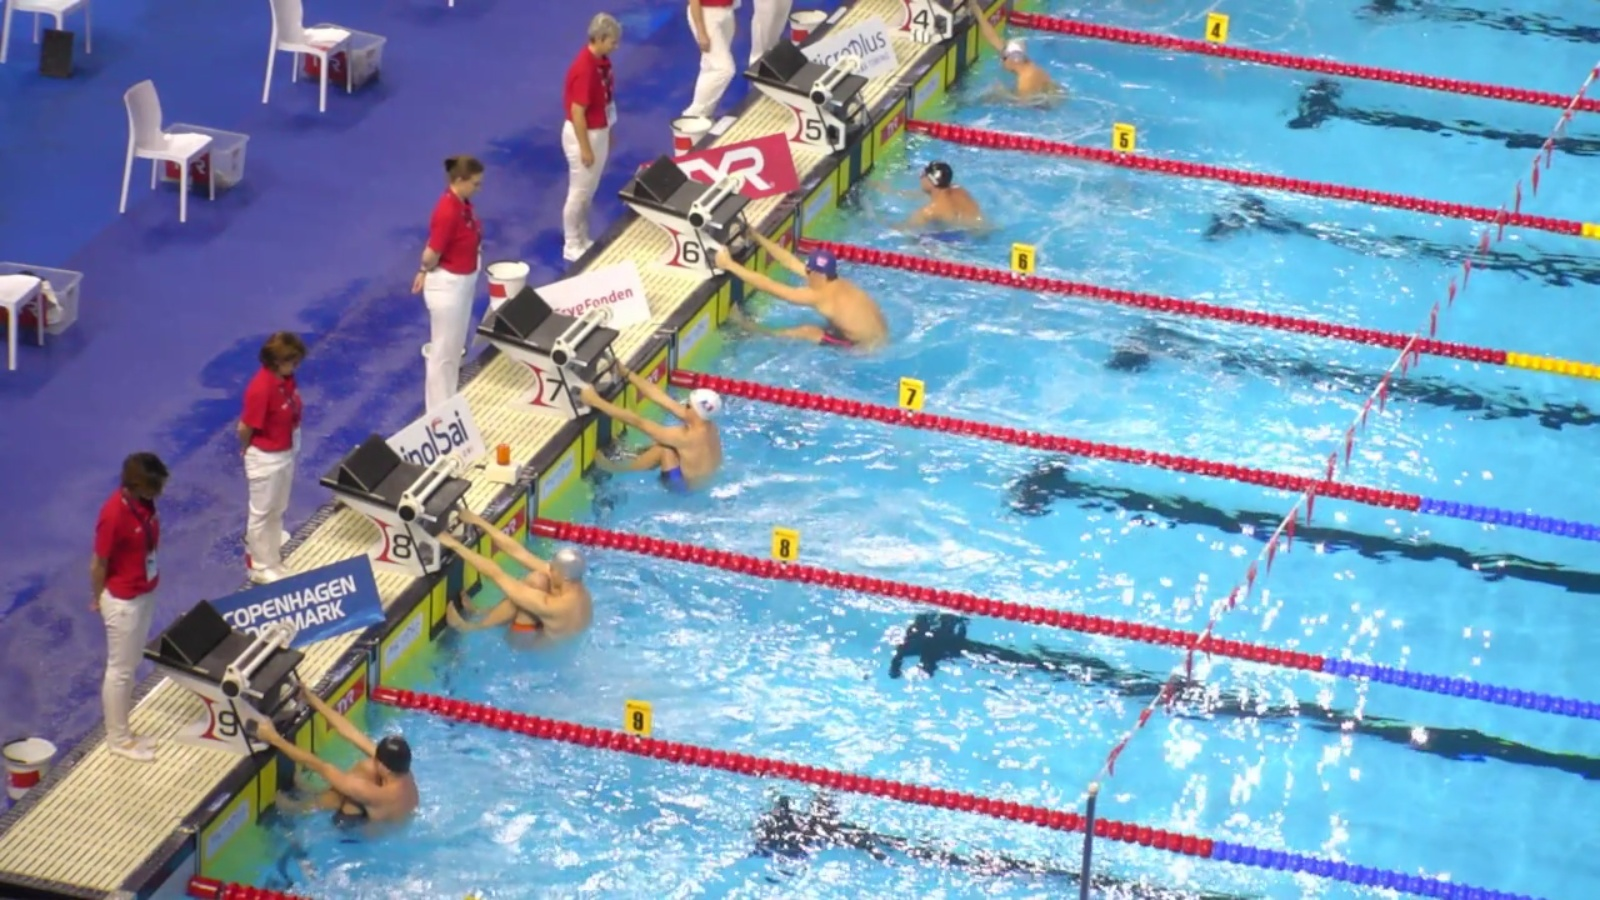swimmerw: (253, 684, 419, 853), (426, 508, 595, 652), (707, 225, 893, 351), (577, 362, 727, 495), (962, 4, 1079, 121), (866, 162, 998, 253)
